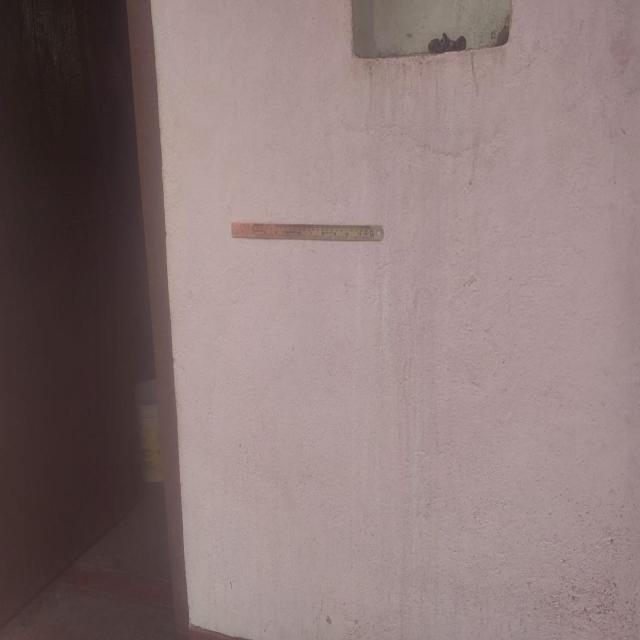scale: (232, 223, 386, 239)
